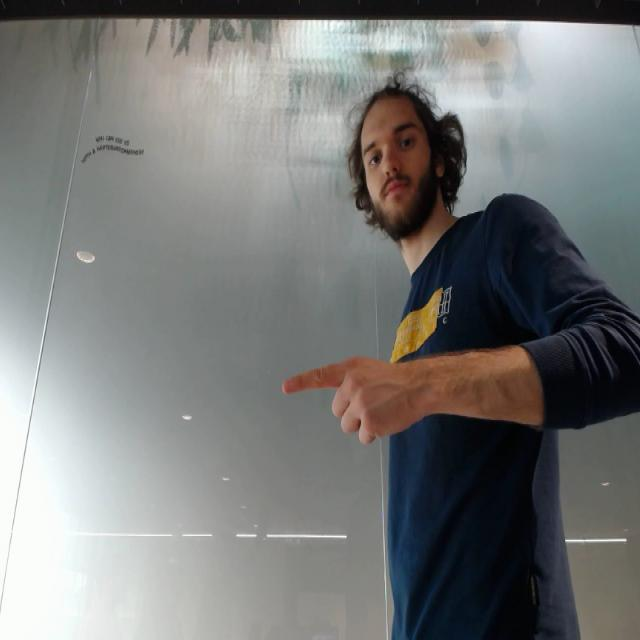left: (277, 355, 426, 449)
